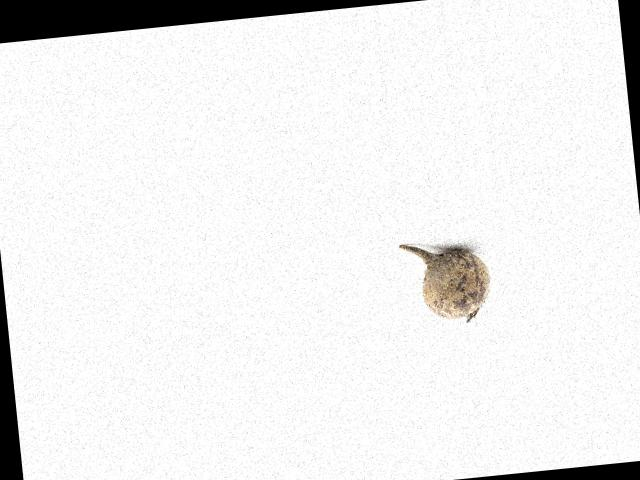beet: (399, 236, 494, 328)
